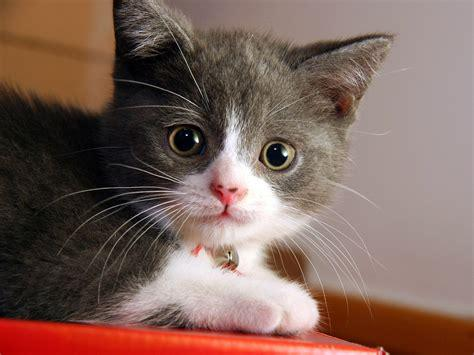cat: (1, 1, 393, 335)
